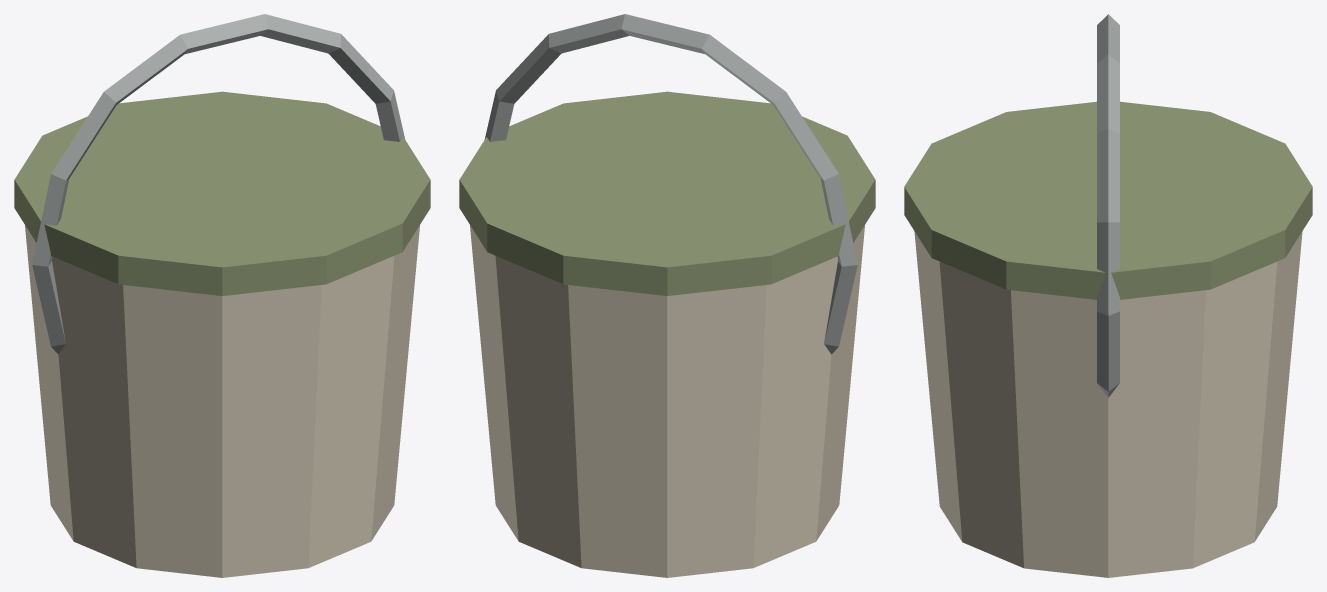
File: Equipment_AbsorbentPail.fbx
3 renders of one model, left to right at view 1: azimuth 30°, elevation 25°; view 2: azimuth 150°, elevation 25°; view 3: azimuth 270°, elevation 25°, orthographic.
Parts seen in each view (by area): view 1: G18_tapered injection pail, G18_snap on lid, G18_bail handle; view 2: G18_tapered injection pail, G18_snap on lid, G18_bail handle; view 3: G18_tapered injection pail, G18_snap on lid, G18_bail handle.
Part boxes in pixels (x1=…): G18_tapered injection pail: x1=25, y1=225, x2=419, y2=577; G18_snap on lid: x1=14, y1=91, x2=430, y2=295; G18_bail handle: x1=32, y1=14, x2=405, y2=354; G18_tapered injection pail: x1=470, y1=225, x2=864, y2=577; G18_snap on lid: x1=459, y1=91, x2=875, y2=295; G18_bail handle: x1=484, y1=14, x2=857, y2=354; G18_tapered injection pail: x1=914, y1=231, x2=1302, y2=577; G18_snap on lid: x1=904, y1=101, x2=1312, y2=299; G18_bail handle: x1=1097, y1=14, x2=1119, y2=397.
Size of the model in its own units: 0.399 by 0.4818 by 0.3776.
